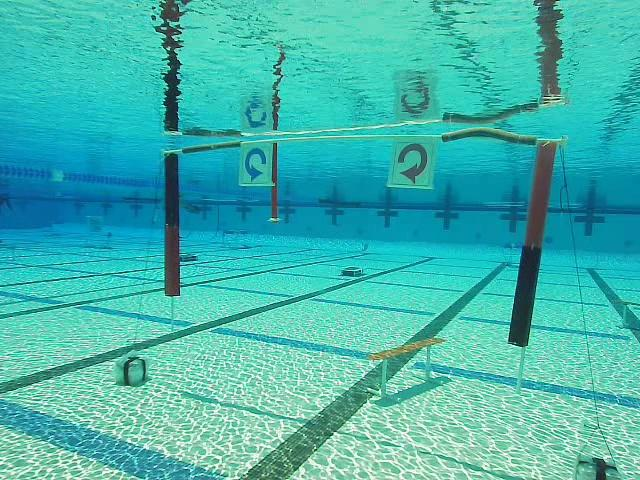dropper: (339, 263, 363, 280)
gate: (161, 128, 563, 351)
gate_blue: (239, 142, 274, 186)
gate_leg_l: (161, 150, 181, 298)
gate_leg_r: (508, 138, 562, 347)
gate_red: (389, 138, 438, 188)
torpedo: (86, 213, 105, 234)
